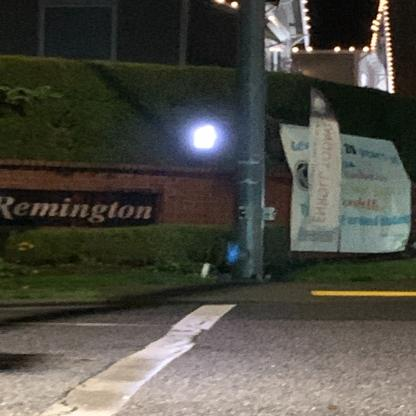Walk: (190, 124, 224, 152)
